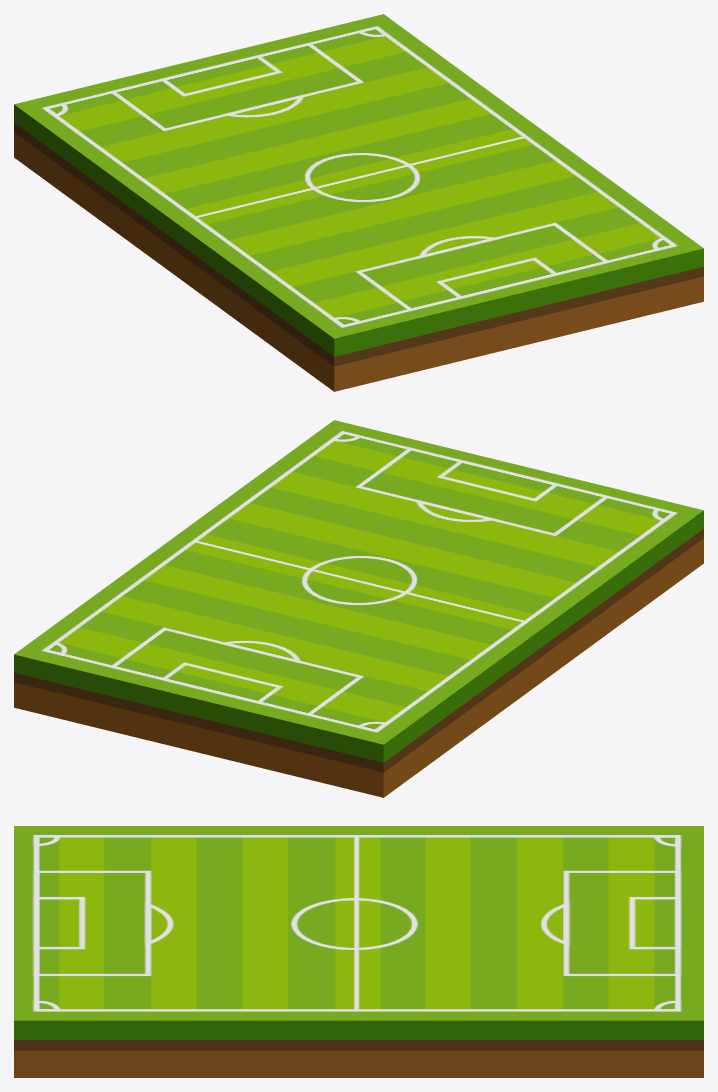
The model's file is football_field.fbx.
The picture shows the model from 3 angles, top to bottom: view 1: azimuth 30°, elevation 25°; view 2: azimuth 150°, elevation 25°; view 3: azimuth 270°, elevation 25°; orthographic projection. The views are drawn at different scales.
Visible parts, largest first — view 1: Cube; view 2: Cube; view 3: Cube.
Part boxes in pixels (x1,y1,x2,y2): Cube: [14, 14, 703, 391]; Cube: [14, 420, 703, 797]; Cube: [14, 826, 703, 1077].
Size of the model in its own units: 800 by 110 by 1200.
Materials: 5 (1 with a texture image).
